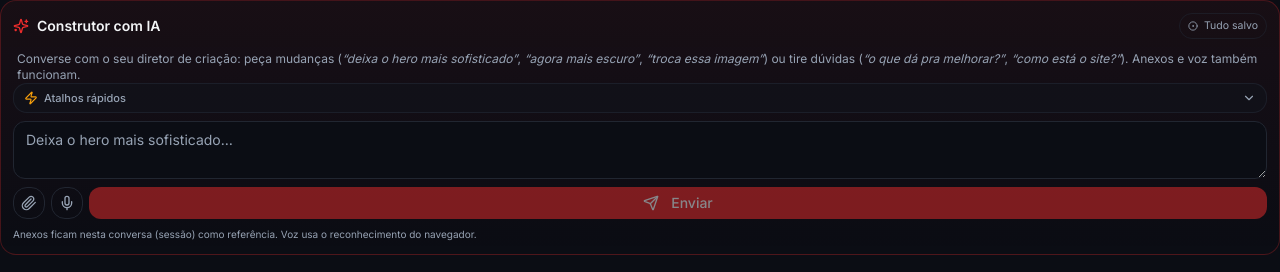
Scenario: Gravador de voz do chat — só transcreve ao PARAR e UMA vez (silêncio não finaliza) › 10) start que falha na 1ª tentativa é retentado e grava
Click the button titled "Gravar com voz": point(67, 203) [51,187,83,219]
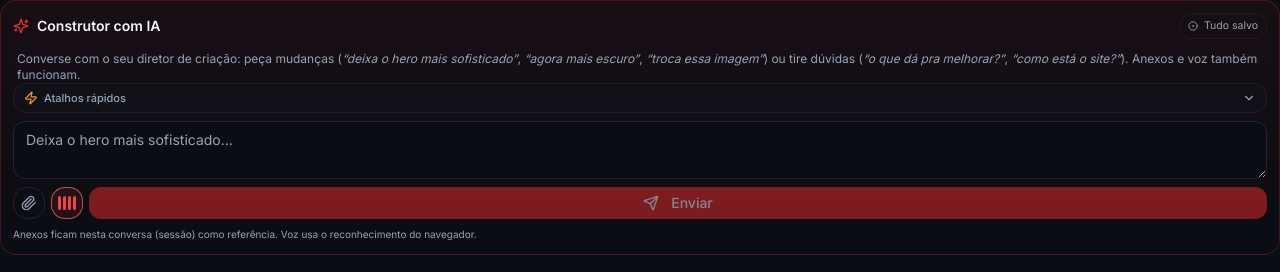
Click the button titled "Parar gravação": point(67, 203) [51,187,83,219]
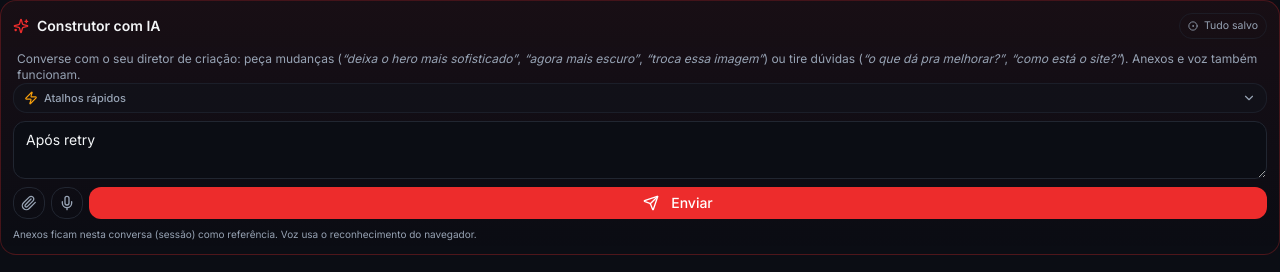
expect the text box with placeholder "Deixa o hero mais sofisticado…" holds "Após retry": met, box [13,121,1267,179]
